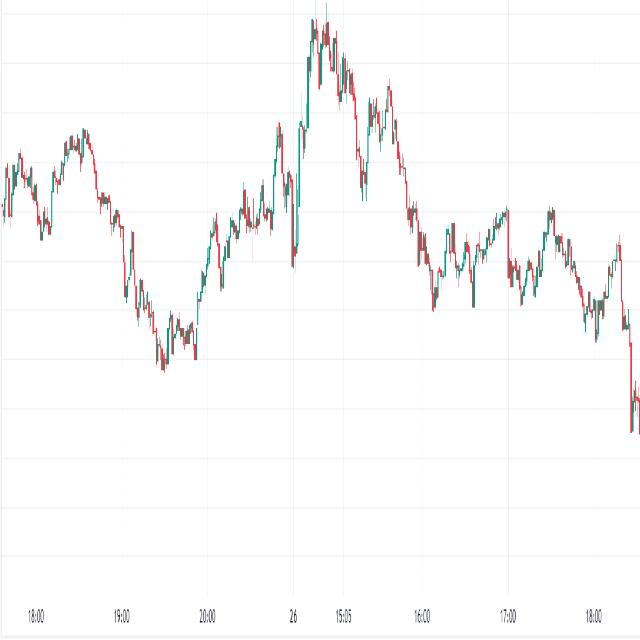Inverse-Head-Shoulders: (279, 65, 312, 279)
